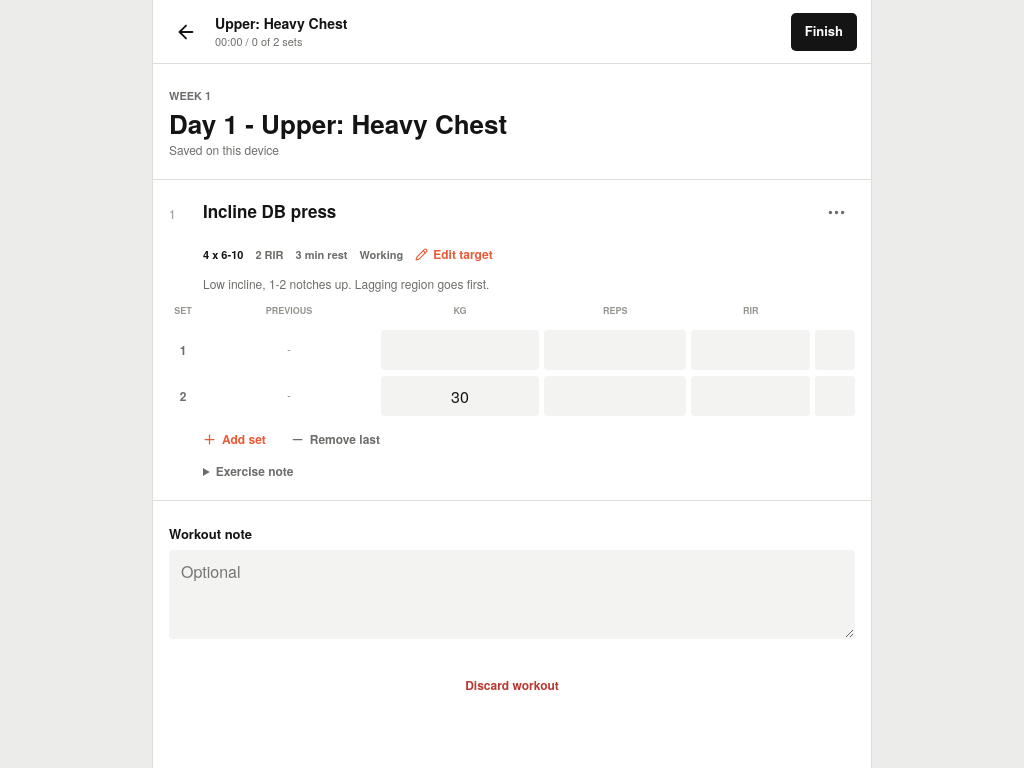
daily workout logger › requires confirmation before removing a set with entries and protects the final row
Click the button "Remove last" at (335, 439), box [285,426,385,453]
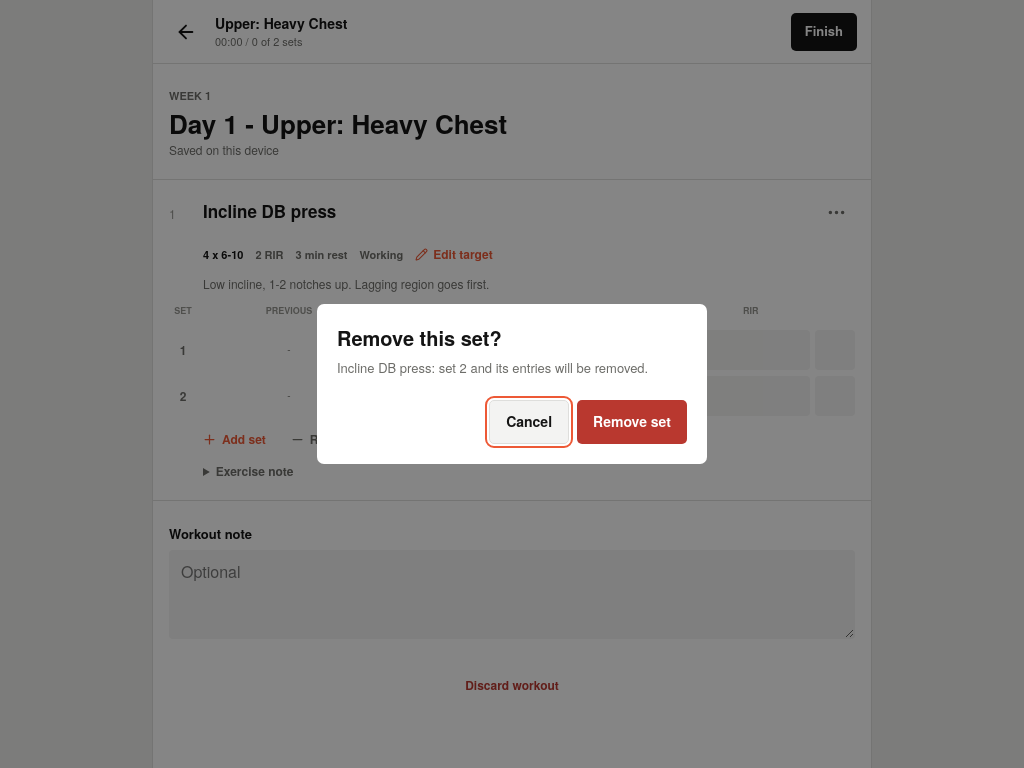
Check: the dialog "Remove this set?" is shown, box [317,304,707,464]
Click the button "Cancel" at (529, 422), box [489,400,569,444]
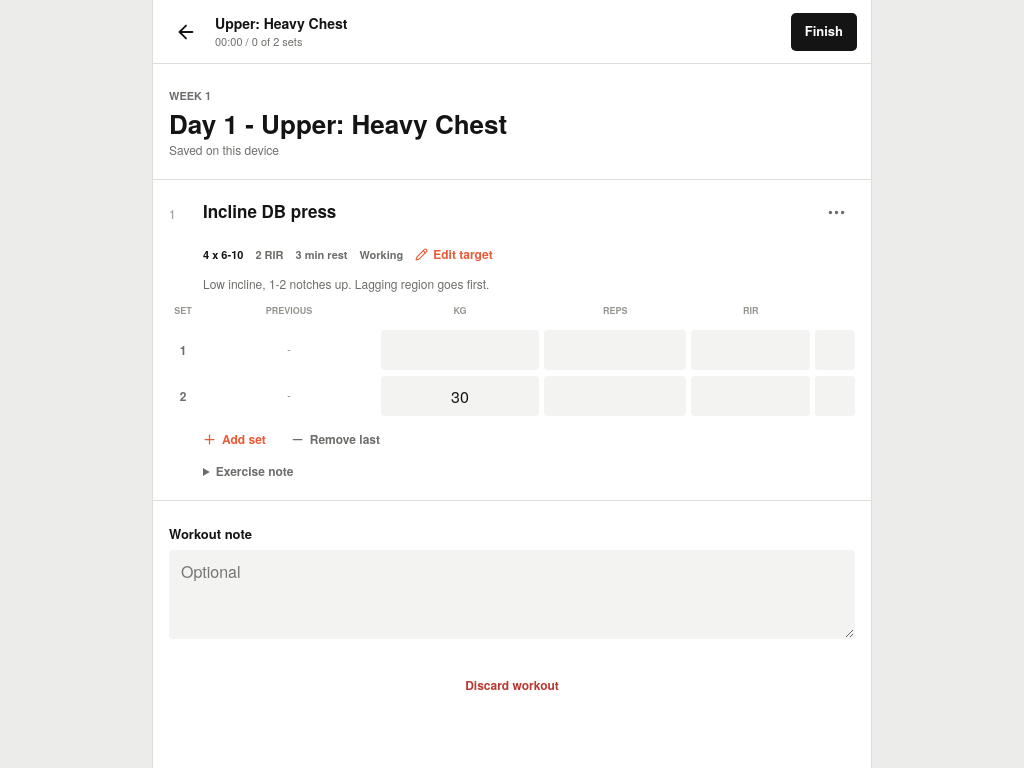
Check: the number field named "Incline DB press set 2 weight" holds "30", box [381,376,539,416]
Click the button "Remove last" at (335, 439), box [285,426,385,453]
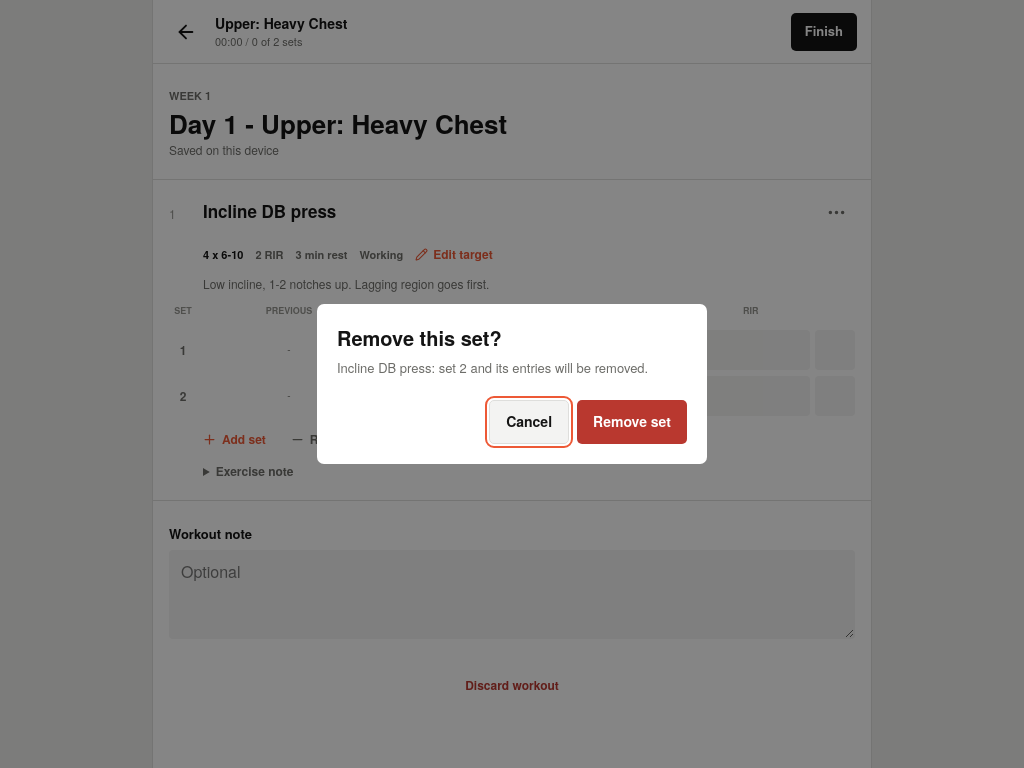
Click the button "Remove set" at (632, 422), box [577,400,687,444]
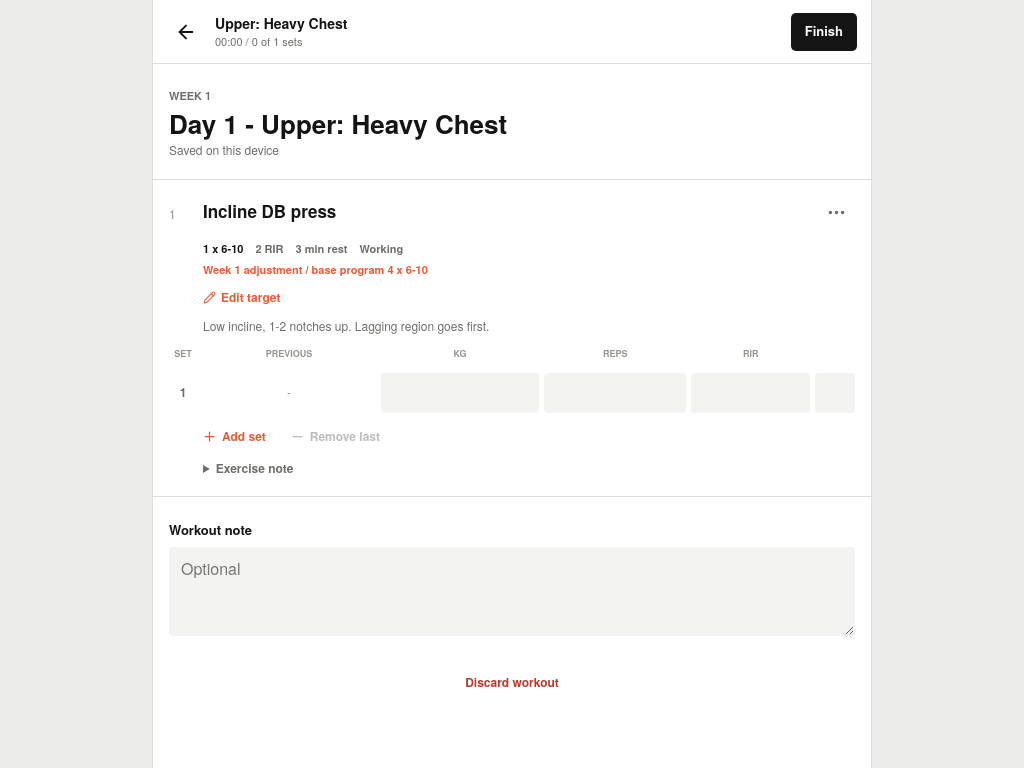
Check: the button "Remove last" is disabled, box [285,423,385,450]
